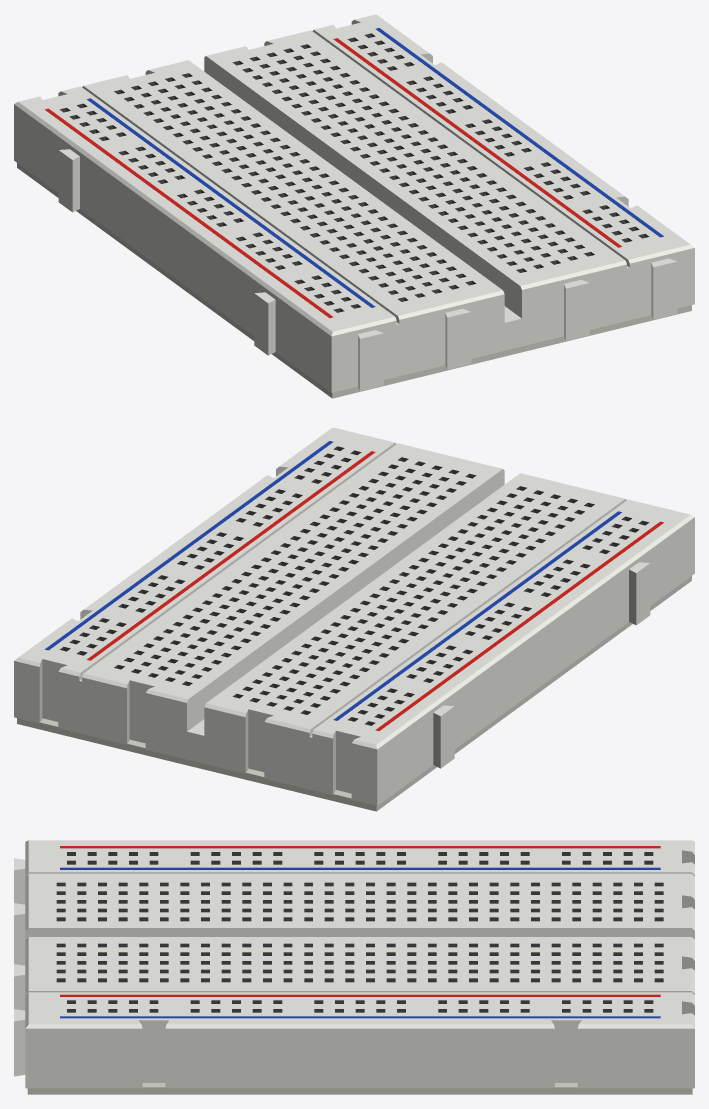
File: breadboard_400_point.glb
3 views of the same model, one above another, from view 1: azimuth 30°, elevation 25°; view 2: azimuth 150°, elevation 25°; view 3: azimuth 270°, elevation 25° (orthographic). The views are drawn at different scales.
Parts seen in each view (by area): view 1: body, rail_lines, backing; view 2: body, rail_lines, backing; view 3: body, rail_lines, backing.
Boxes of the visible parts, <box> form: body: <box>14,14,694,392</box>; rail_lines: <box>45,28,663,318</box>; backing: <box>17,163,691,398</box>; body: <box>14,427,694,805</box>; rail_lines: <box>45,441,663,731</box>; backing: <box>17,576,691,811</box>; body: <box>14,840,694,1088</box>; rail_lines: <box>60,846,660,1018</box>; backing: <box>27,1083,692,1094</box>.
Bounding box in the file's own units: 0.0559 × 0.00953 × 0.0839.
